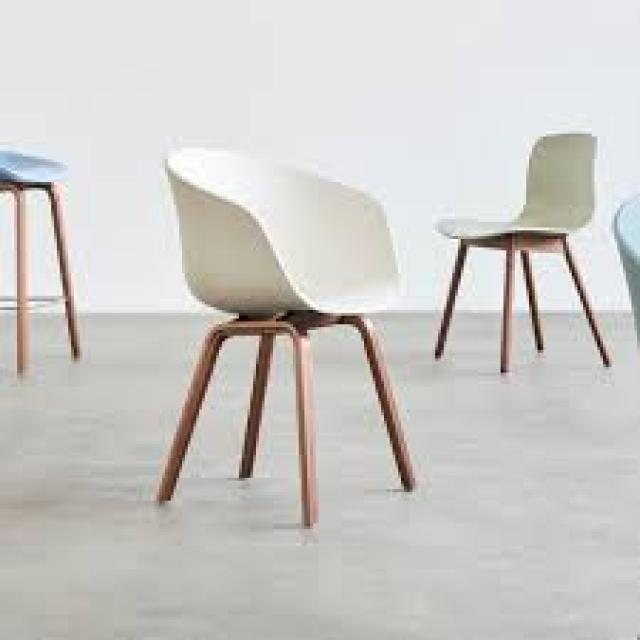chair: (77, 101, 428, 581), (431, 111, 616, 423), (0, 101, 112, 405)
